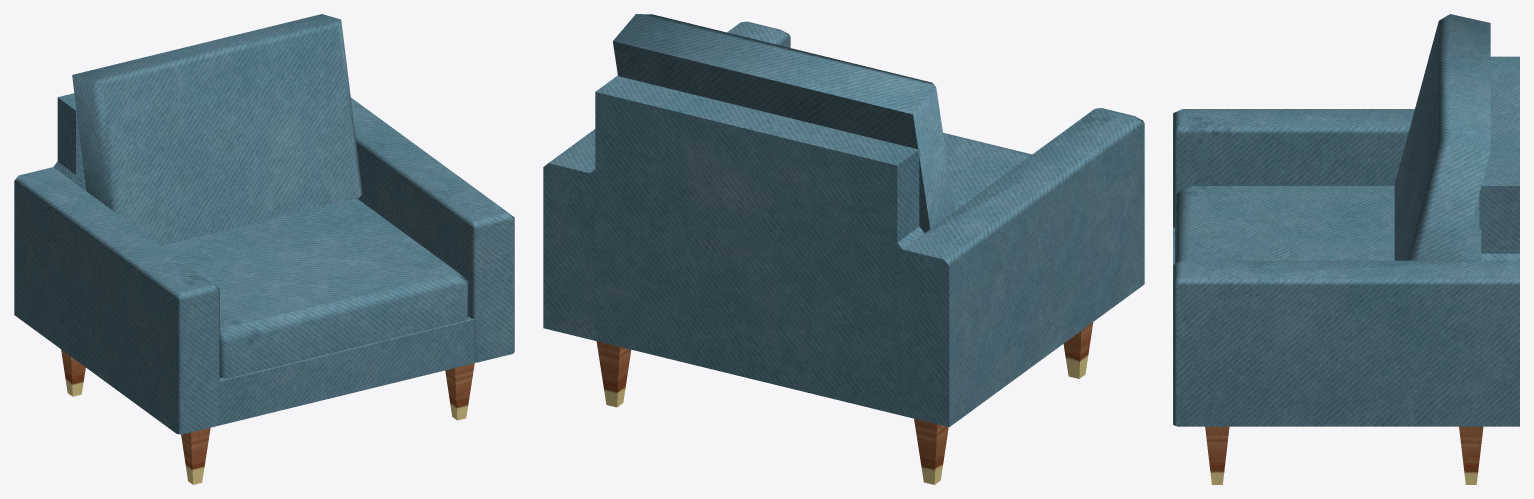
3 renders of one model, left to right at view 1: azimuth 30°, elevation 25°; view 2: azimuth 150°, elevation 25°; view 3: azimuth 270°, elevation 25°, orthographic. The views are drawn at different scales.
Parts seen in each view (by area): view 1: Armchair_from_glb; view 2: Armchair_from_glb; view 3: Armchair_from_glb.
Part boxes in pixels (x1,y1,x2,y2): Armchair_from_glb: [14, 14, 514, 484]; Armchair_from_glb: [543, 14, 1144, 484]; Armchair_from_glb: [1173, 14, 1519, 484].
Size of the model in its own units: 1.33 by 1.2 by 1.12.
Materials: 1 (1 with a texture image).
